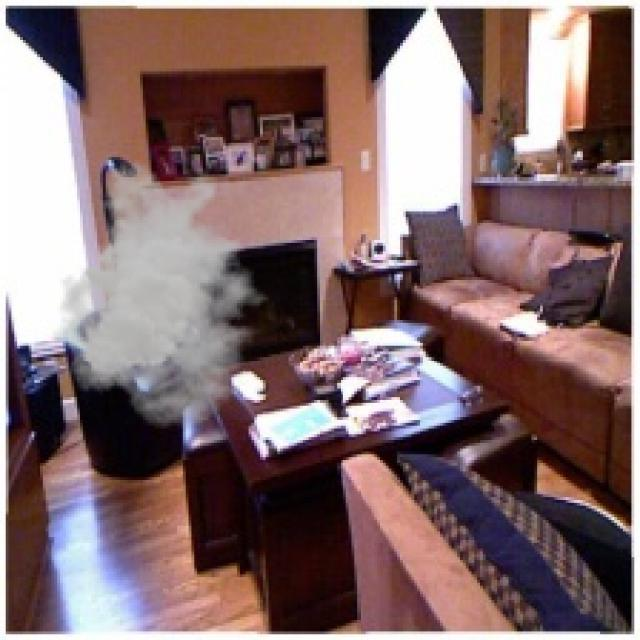smoke: (51, 160, 280, 429)
